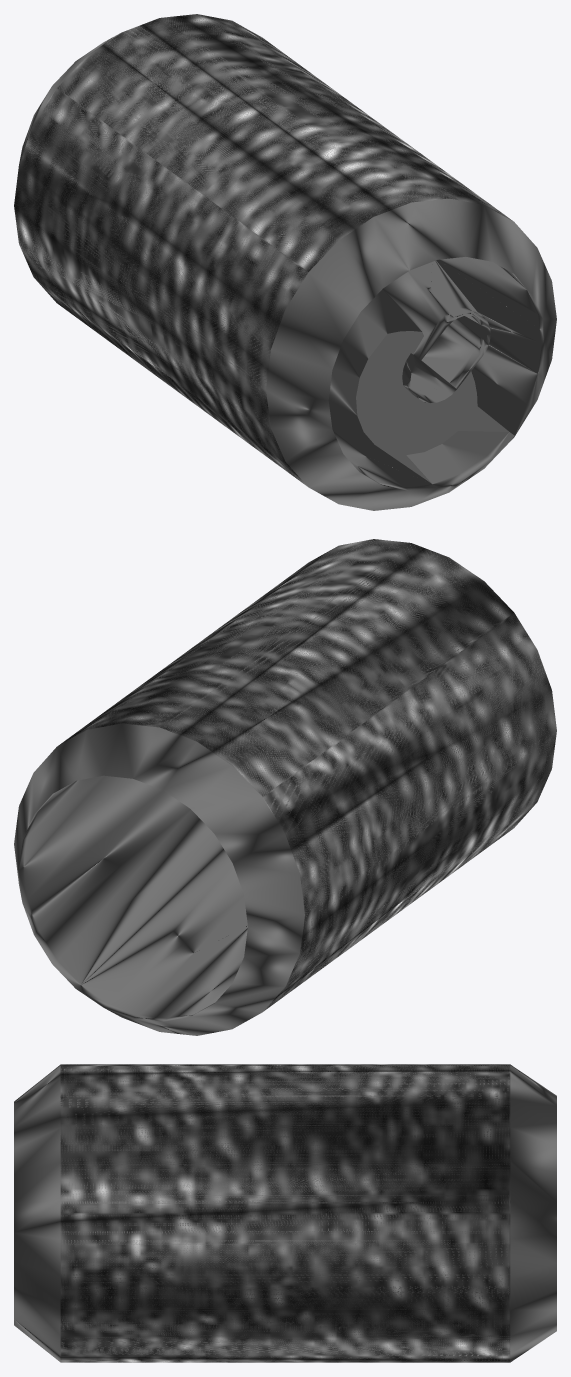
The model's file is model_align.obj.
3 renders of one model, top to bottom at view 1: azimuth 30°, elevation 25°; view 2: azimuth 150°, elevation 25°; view 3: azimuth 270°, elevation 25°, orthographic. The views are drawn at different scales.
Bounding box in the file's own units: 0.0696 × 0.0696 × 0.1262.
